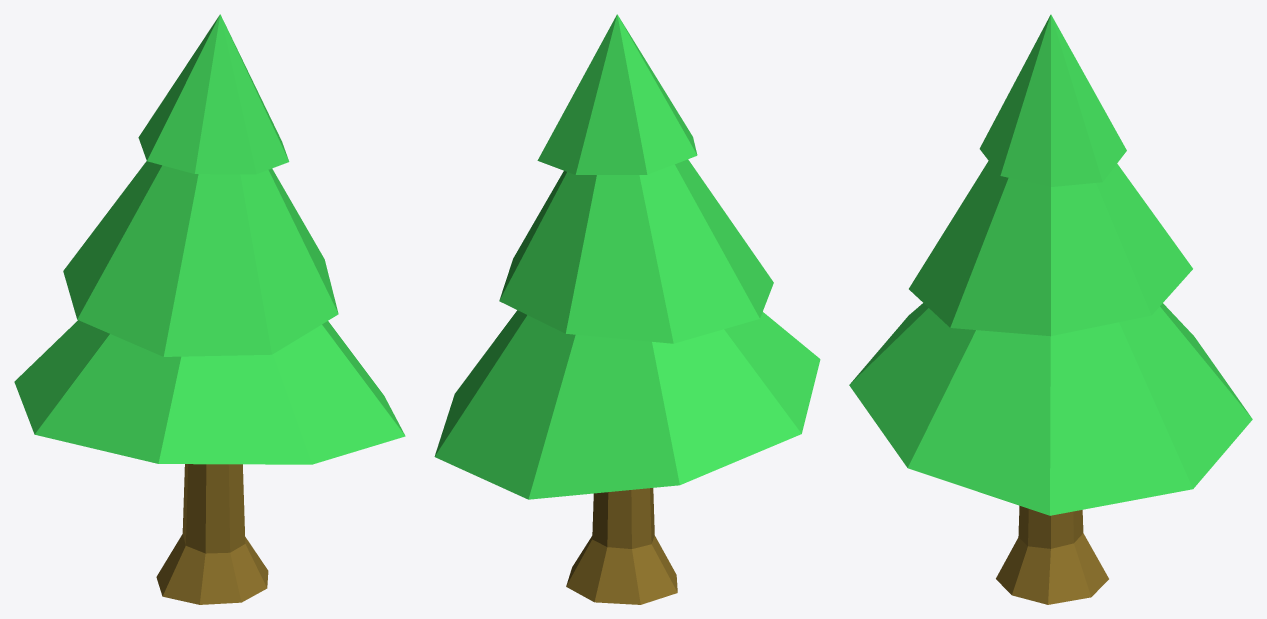
Rendered from Tree2.fbx.
3 views of the same model, side by side, from view 1: azimuth 30°, elevation 25°; view 2: azimuth 150°, elevation 25°; view 3: azimuth 270°, elevation 25° (orthographic).
Parts seen in each view (by area): view 1: Cone.001; view 2: Cone.001; view 3: Cone.001.
Boxes of the visible parts, bbox=[...] form: Cone.001: bbox=[14, 14, 405, 604]; Cone.001: bbox=[434, 14, 820, 604]; Cone.001: bbox=[849, 14, 1252, 604].
Size of the model in its own units: 3138 by 4874 by 3139.
